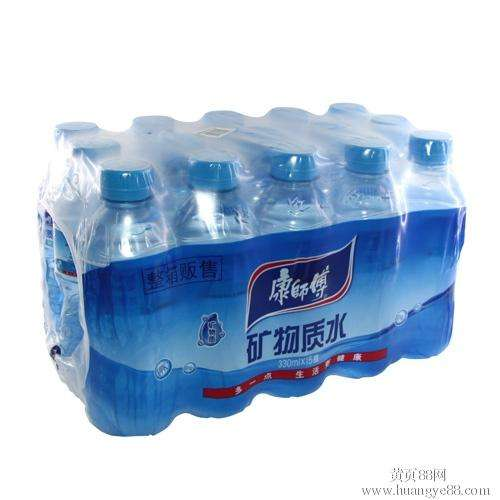amwater: (20, 73, 475, 443)
